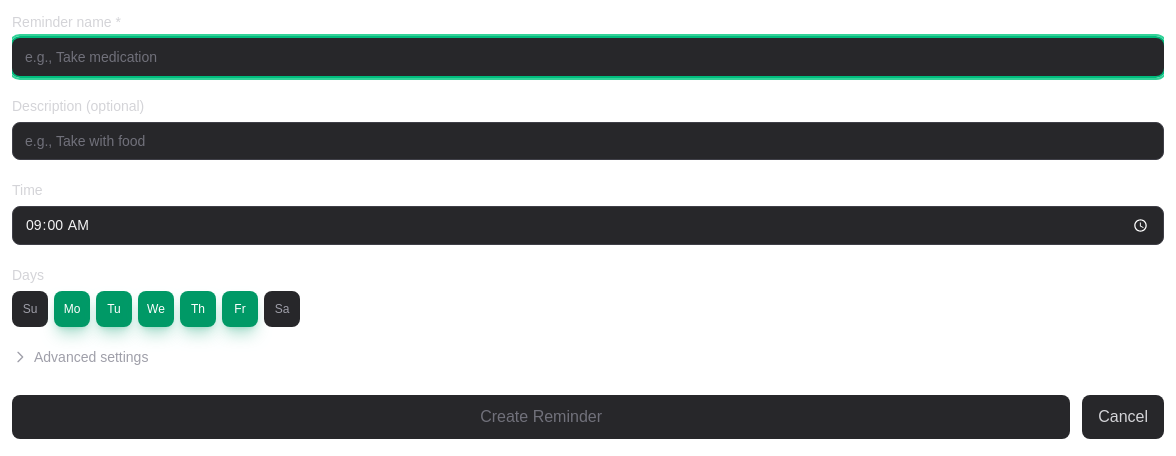
Test: ReminderForm Component › Validation › should enable submit when name and days are valid
The image size is (1176, 456).
In the field labelled "Reminder name *": coordinates (588, 57) [12,38,1164,76], type "Valid Task"
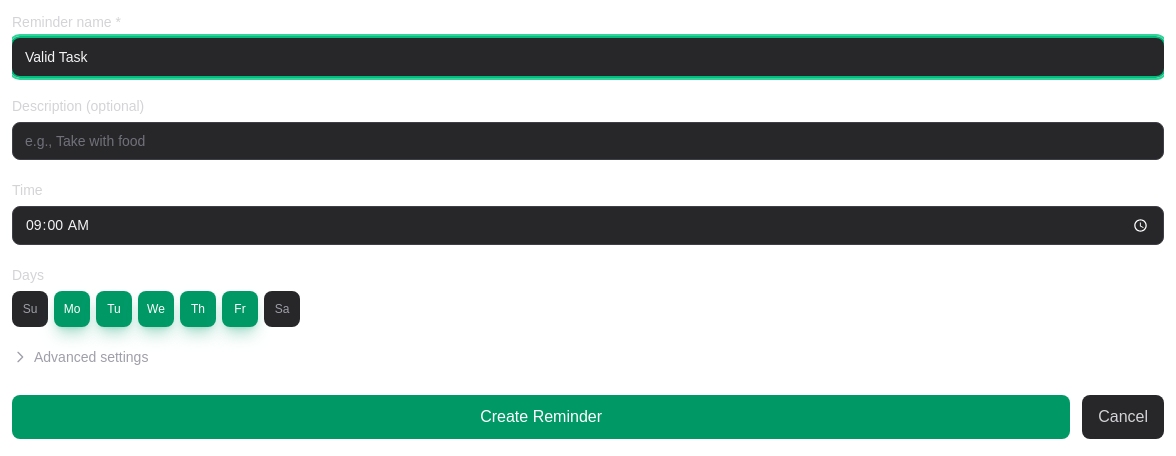
Check: the button "Create Reminder" is enabled, box [12,395,1070,439]
